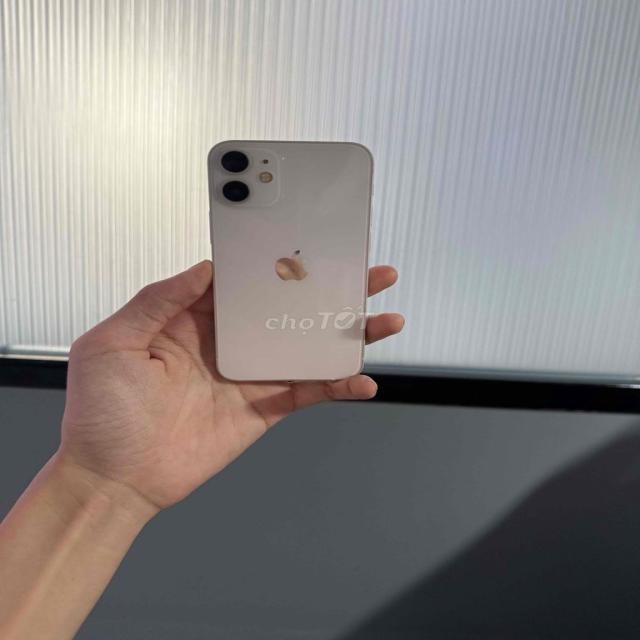gen_12_13: (198, 130, 378, 390)
